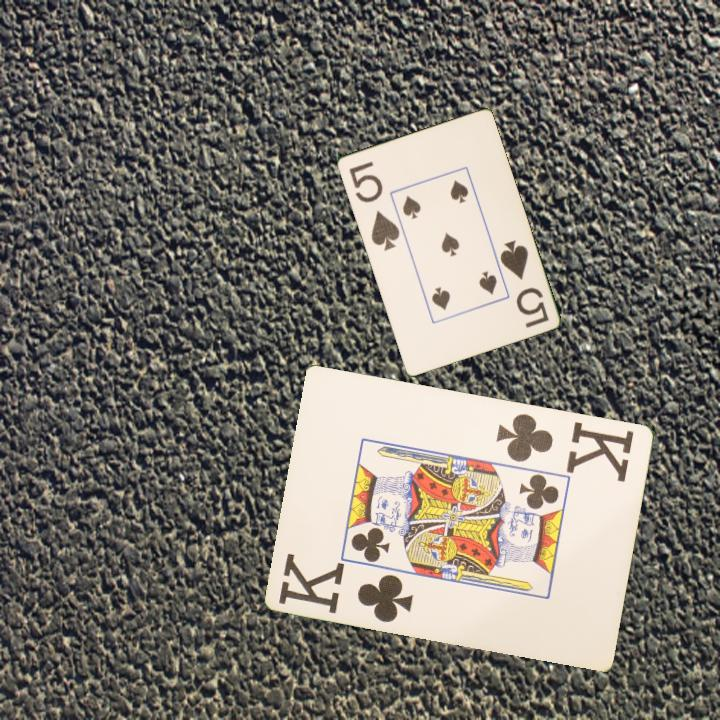5s: (345, 158, 402, 254), (496, 236, 552, 331)
Kc: (492, 409, 637, 484), (276, 551, 417, 625)
